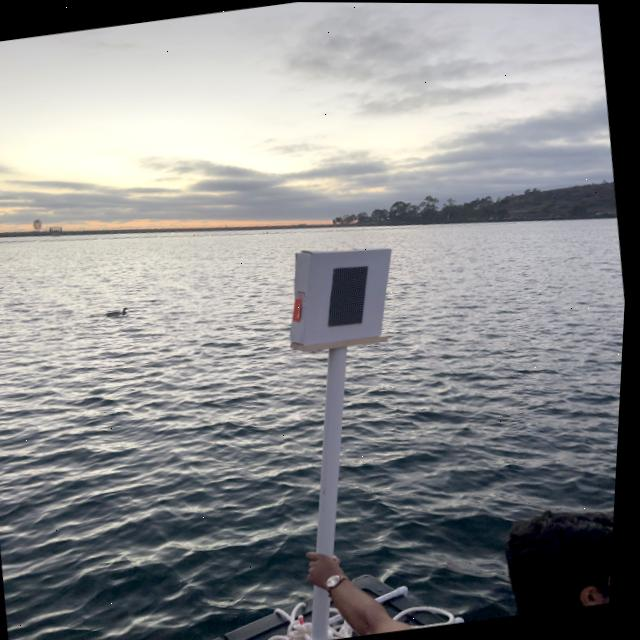led: (312, 245, 396, 354)
